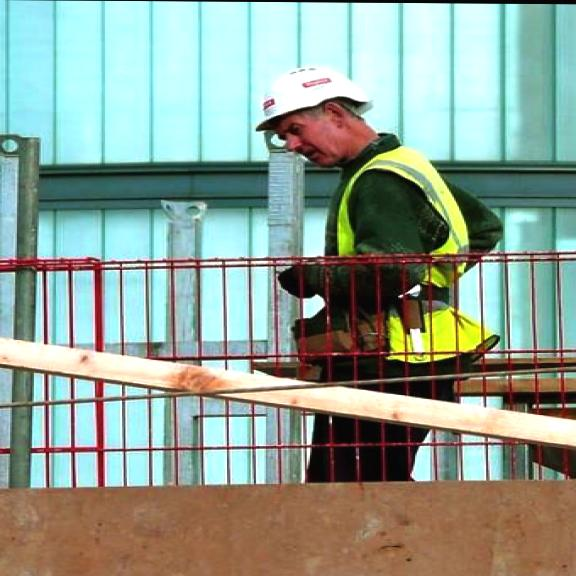safety_vest: (332, 138, 498, 370)
